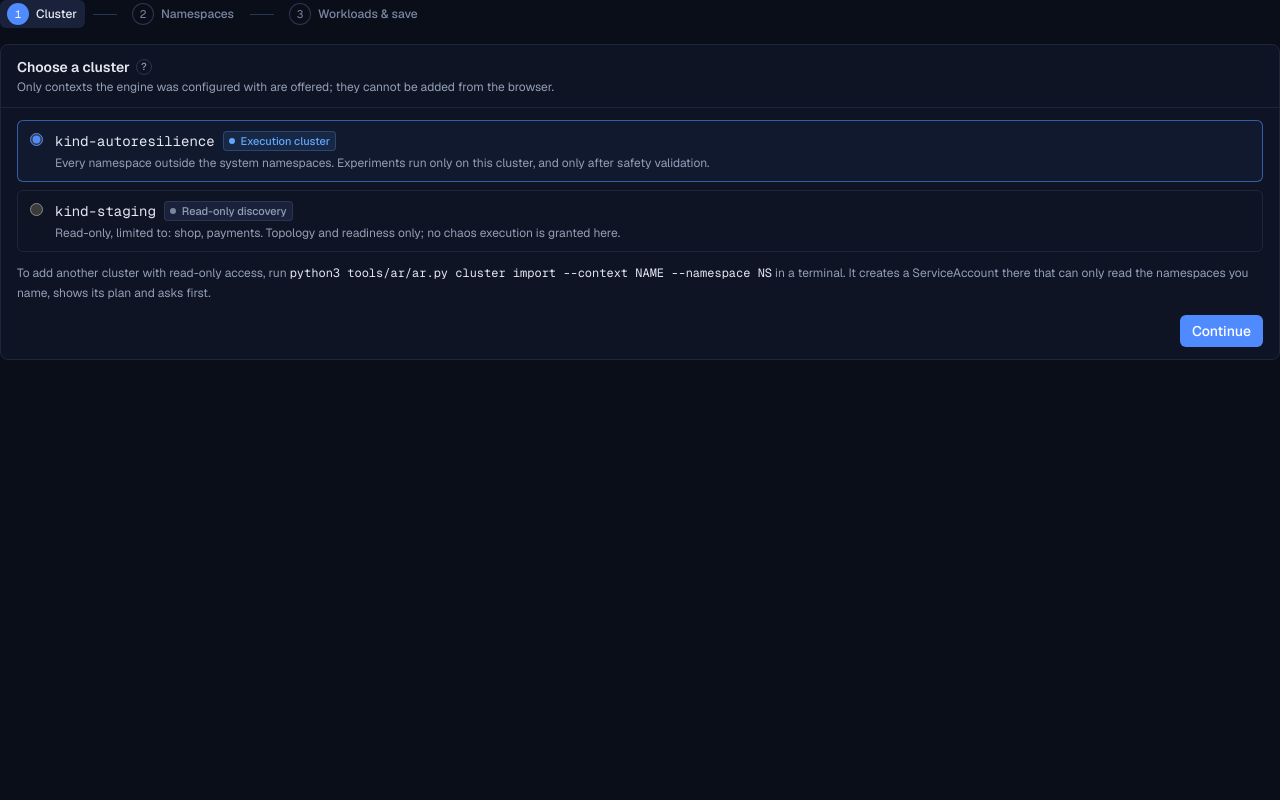
Test case: Onboarding › maps the engine's validation errors back onto the form
Click the button "Continue" at (1221, 331), box [1180,315,1263,347]
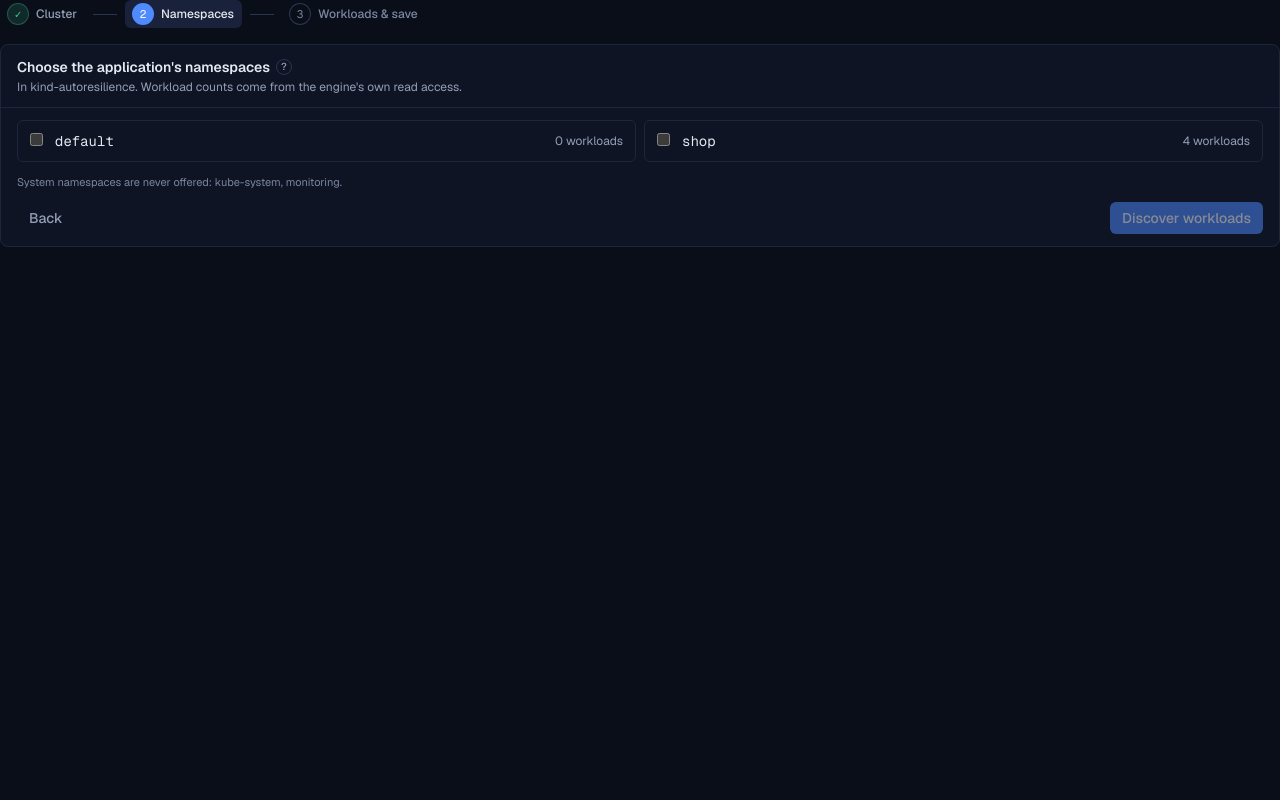
Click the checkbox labelled "shop 4 workloads" at (664, 140), box [657,133,670,146]
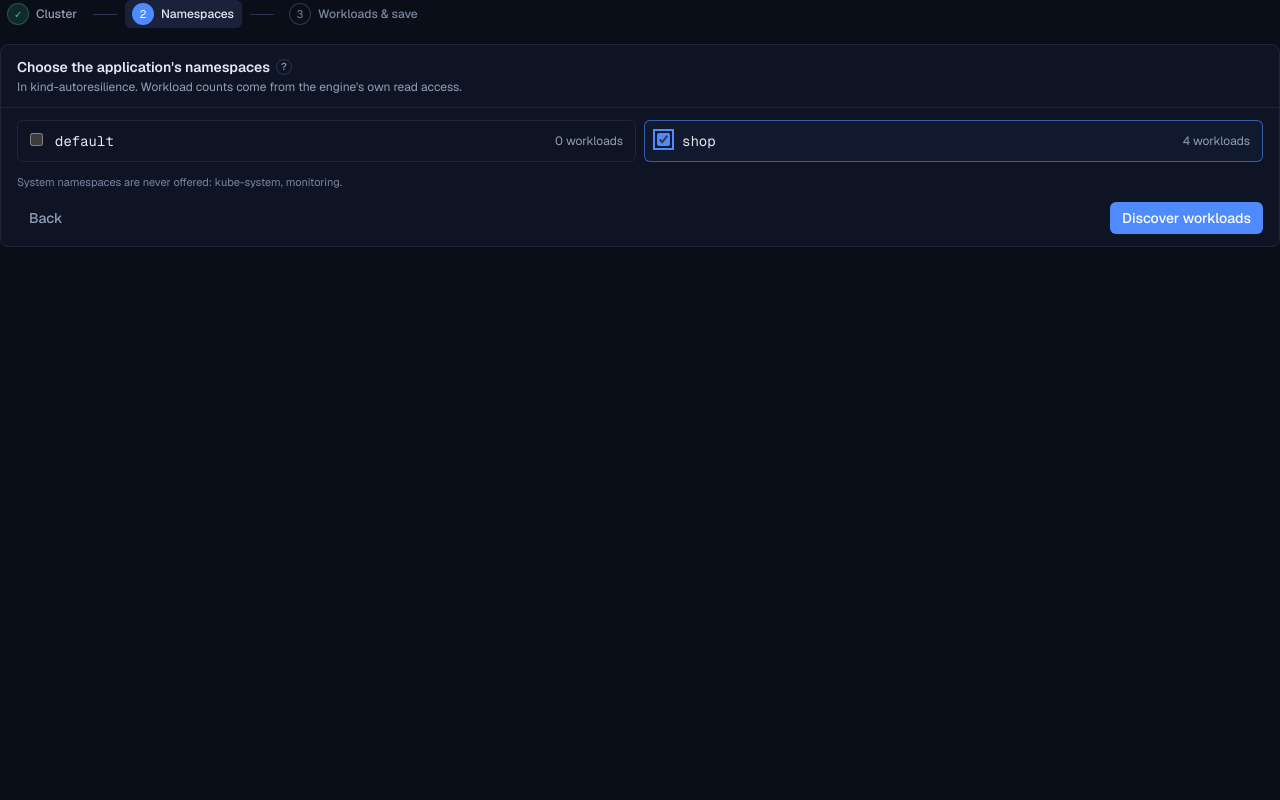
Click the button "Discover workloads" at (1187, 218), box [1110,202,1263,234]
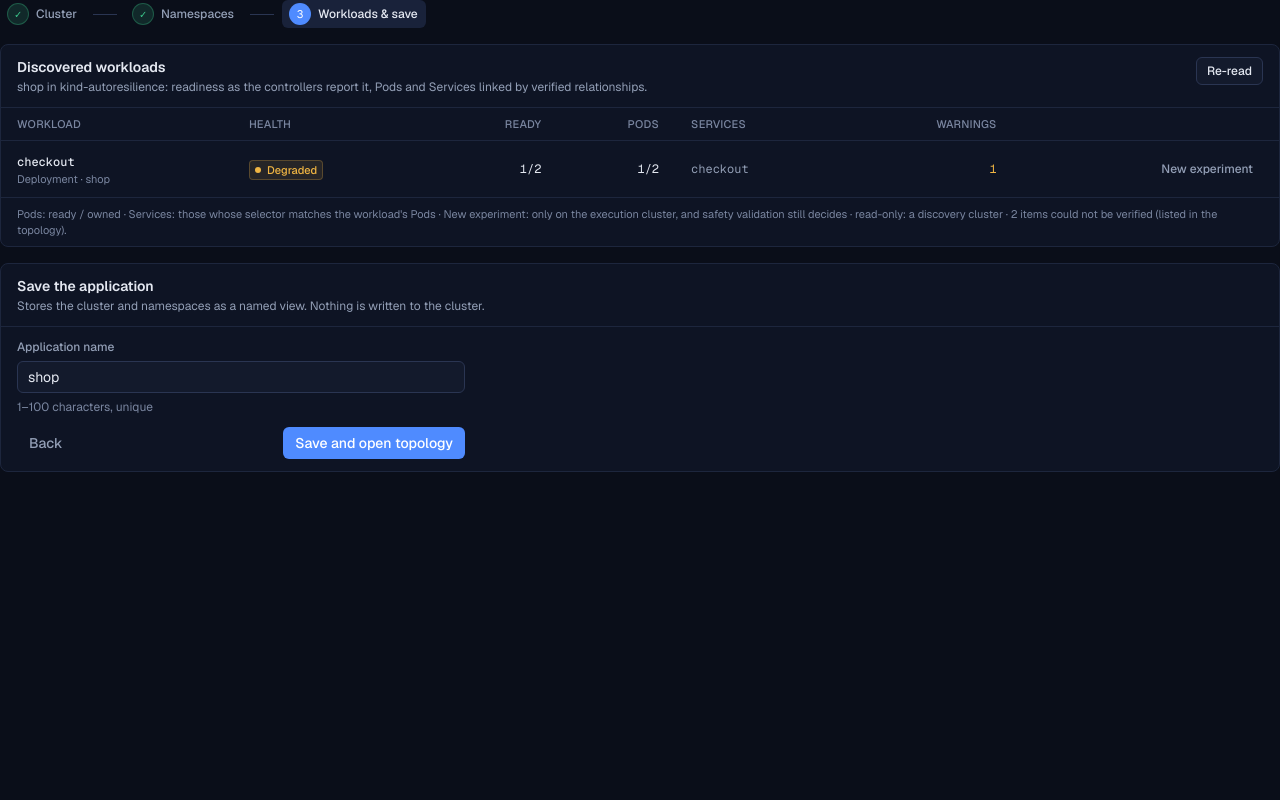
Click the button "Save and open topology" at (374, 443), box [283,427,465,459]
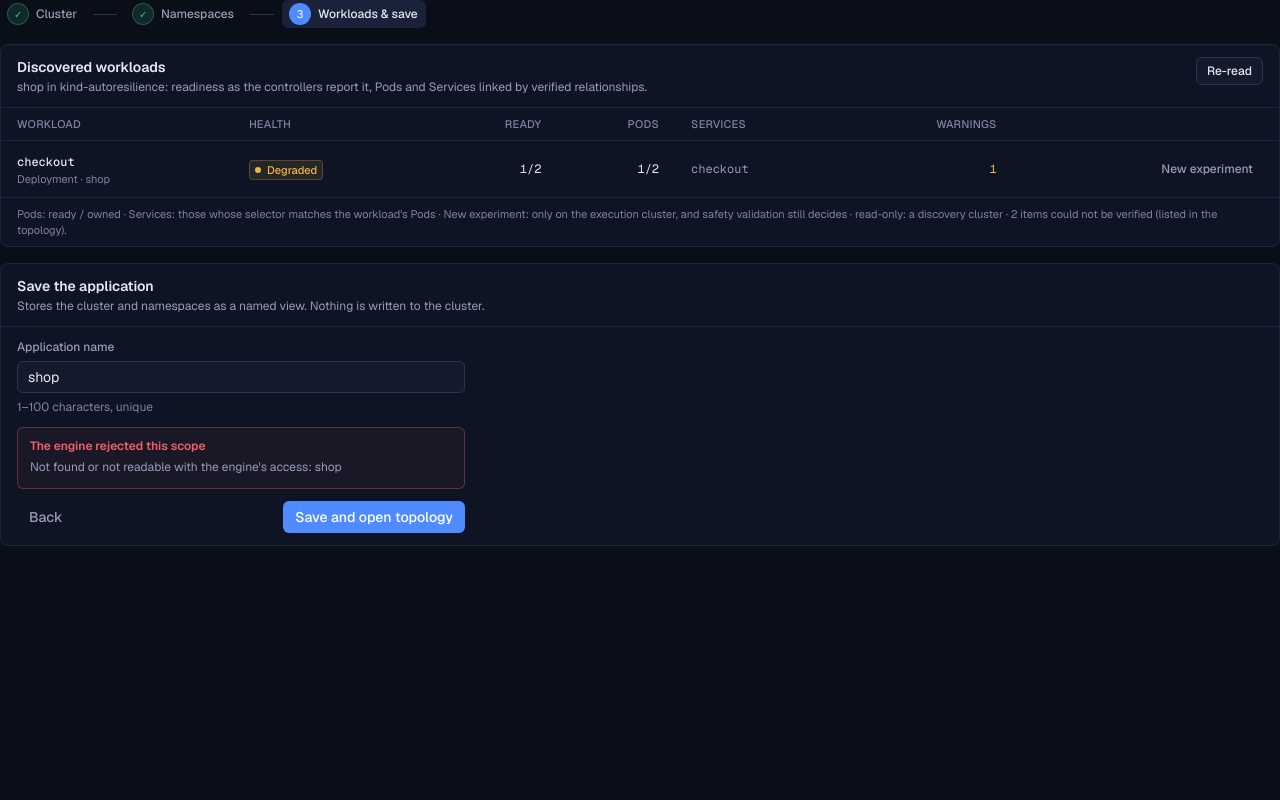
Expected: the message shows "Not found or not readable", [30,459,342,475]
